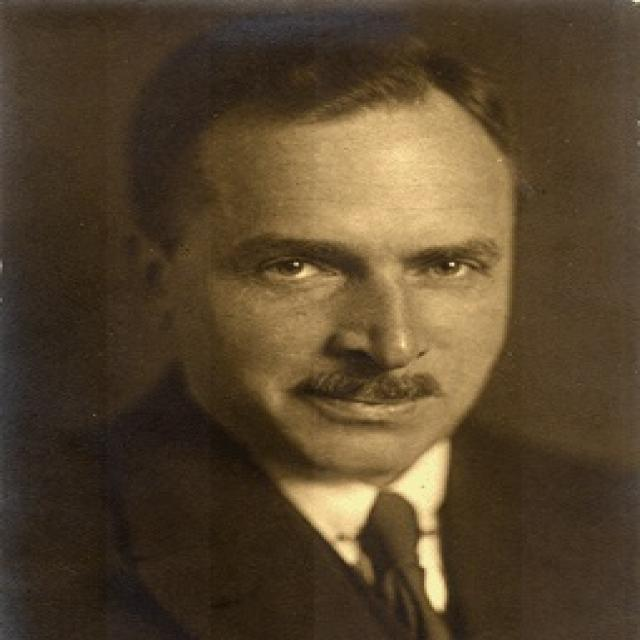human: (11, 19, 640, 640)
